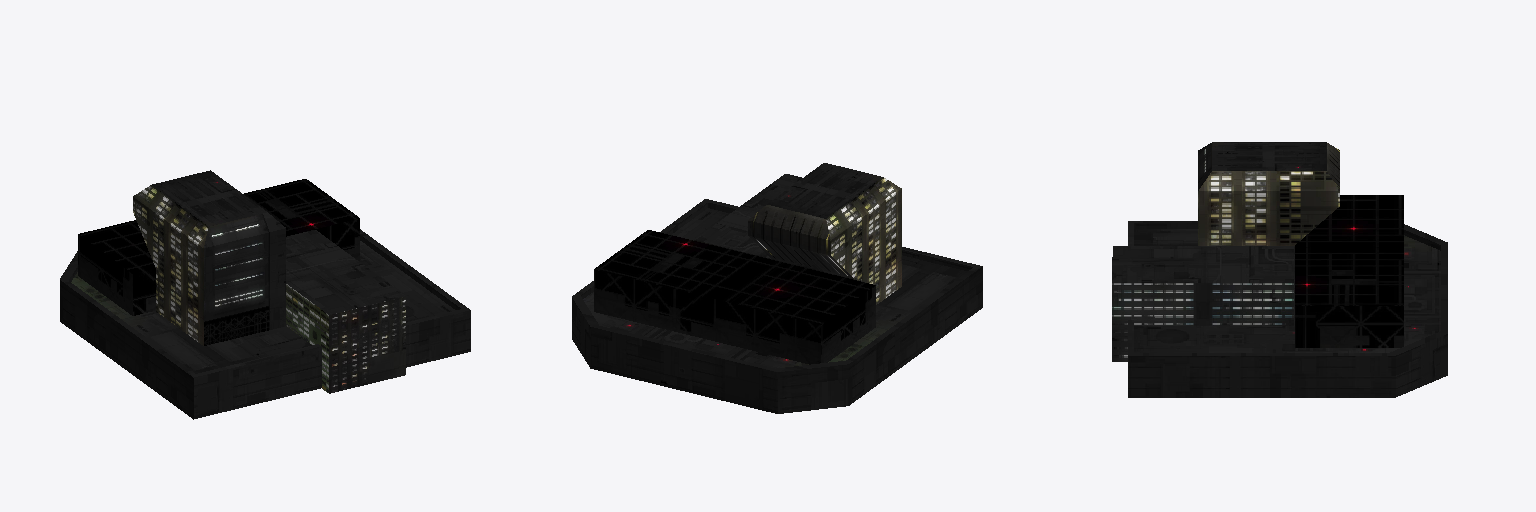
3 views of the same model, side by side, from view 1: azimuth 30°, elevation 25°; view 2: azimuth 150°, elevation 25°; view 3: azimuth 270°, elevation 25° (orthographic).
Visible parts, largest first — view 1: building_55; view 2: building_55; view 3: building_55.
Part boxes in pixels (x1,y1,x2,y2): building_55: (60,170,470,419); building_55: (572,163,982,413); building_55: (1112,142,1447,397).
Bounding box in the file's own units: 155 × 79.21 × 163.
1 materials, 1 textured.